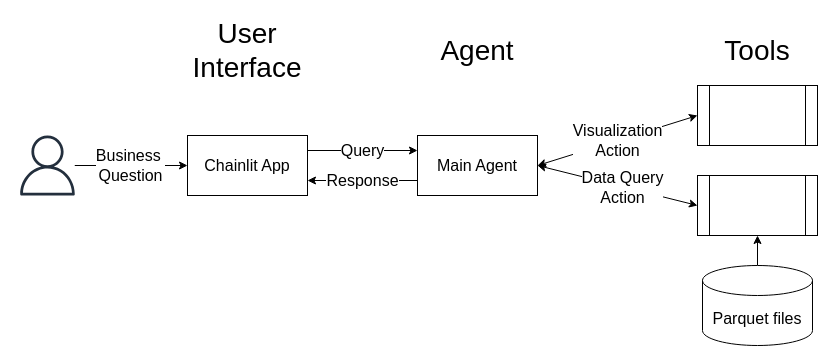
Some shapes in this 835 by 363 pixel diagram are drawn without their labels. The centre of each missing label's shape, as x and y in pixels:
"Data LLM Tool" goes at (x=757, y=205).
"Visualization LLM Tool" goes at (x=757, y=115).
